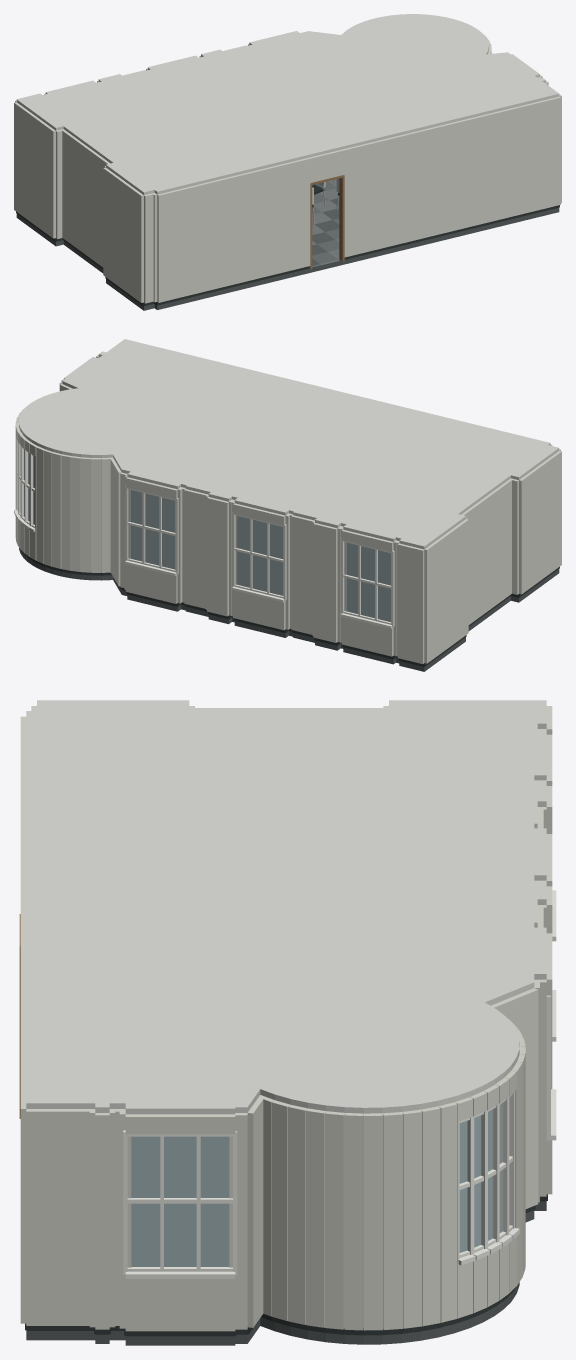
File: ksw-212-interior-f739b909d402.glb
The picture shows the model from 3 angles, top to bottom: view 1: azimuth 30°, elevation 25°; view 2: azimuth 150°, elevation 25°; view 3: azimuth 270°, elevation 25°; orthographic projection. The views are drawn at different scales.
Visible parts, largest first — view 1: ksw-212; view 2: ksw-212; view 3: ksw-212.
Part boxes in pixels (x1,y1,x2,y2): ksw-212: (14, 14, 561, 310); ksw-212: (14, 339, 561, 671); ksw-212: (19, 700, 556, 1345).
Bounding box in the file's own units: 11.7 × 3.11 × 6.39.
